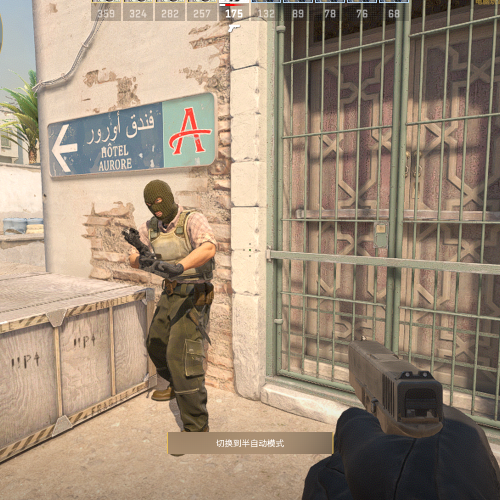t_body: (129, 179, 213, 431)
t_head: (141, 179, 176, 220)
